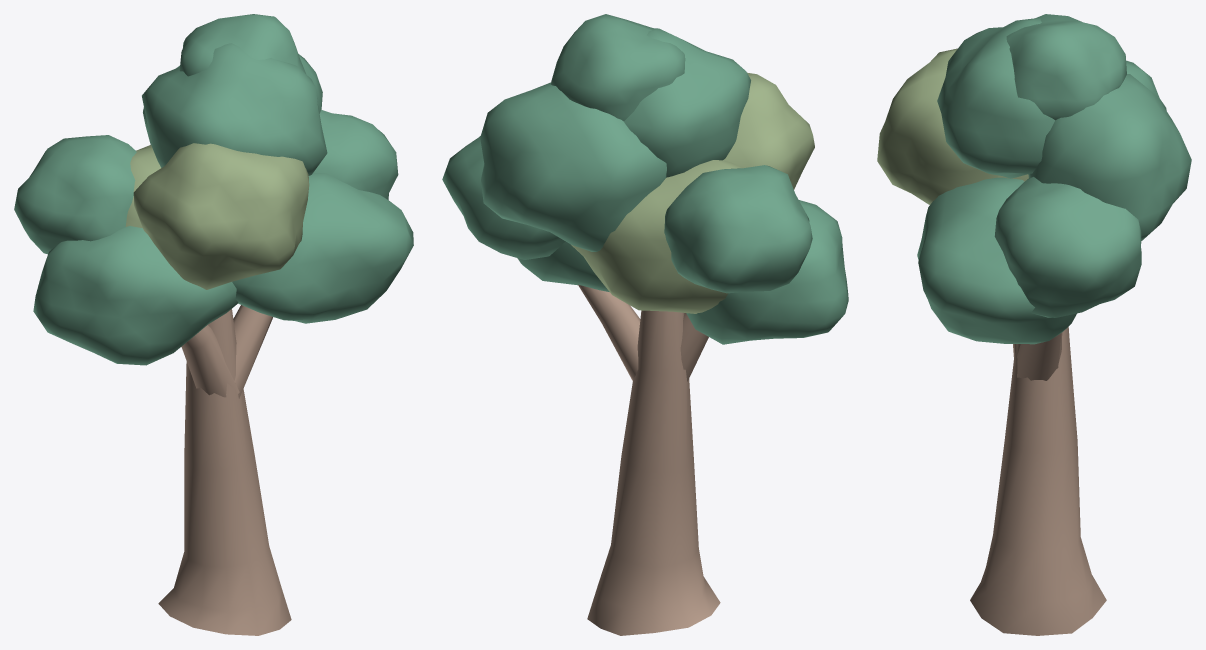
Rendered from FestivalTreeA.fbx.
3 views of the same model, side by side, from view 1: azimuth 30°, elevation 25°; view 2: azimuth 150°, elevation 25°; view 3: azimuth 270°, elevation 25° (orthographic). The views are drawn at different scales.
Parts seen in each view (by area): view 1: FestivalTreeA Leaf__Leaf, FestivalTreeA Bark__Bark, FestivalTreeA LeafWarm__LeafWarm; view 2: FestivalTreeA Leaf__Leaf, FestivalTreeA Bark__Bark, FestivalTreeA LeafWarm__LeafWarm; view 3: FestivalTreeA Leaf__Leaf, FestivalTreeA Bark__Bark, FestivalTreeA LeafWarm__LeafWarm.
Part boxes in pixels (<box>): FestivalTreeA Leaf__Leaf: <box>14,14,413,365</box>; FestivalTreeA Bark__Bark: <box>158,305,291,635</box>; FestivalTreeA LeafWarm__LeafWarm: <box>125,143,309,289</box>; FestivalTreeA Leaf__Leaf: <box>442,14,848,344</box>; FestivalTreeA Bark__Bark: <box>578,284,720,635</box>; FestivalTreeA LeafWarm__LeafWarm: <box>571,72,814,313</box>; FestivalTreeA Leaf__Leaf: <box>917,14,1191,344</box>; FestivalTreeA Bark__Bark: <box>970,327,1106,635</box>; FestivalTreeA LeafWarm__LeafWarm: <box>877,48,1028,204</box>.
Bounding box in the file's own units: 446 × 680 × 322.
